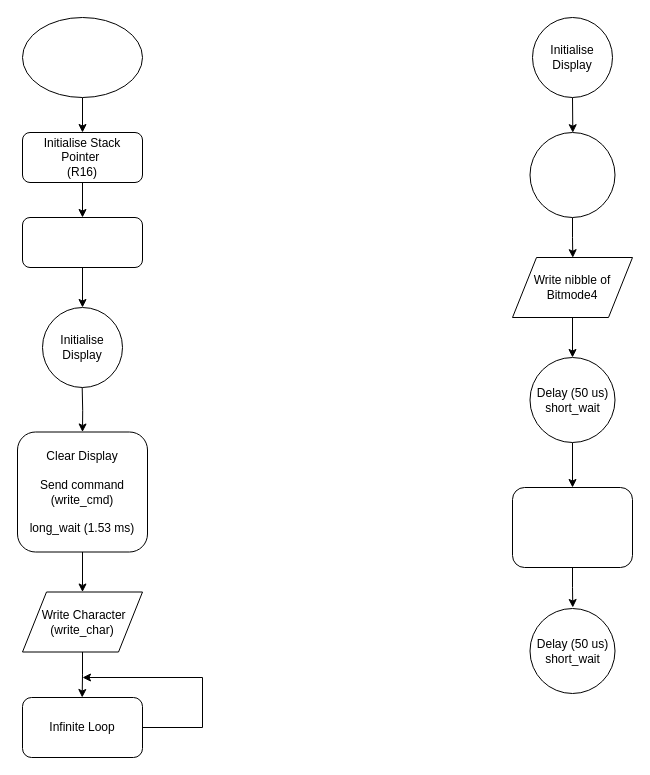
The diagram is 650 pixels wide and 775 high, and some of its shapes have lost their labels. The centre of each missing label's shape, as x and y in pixels:
Delay (20 ms) "Power up": [572,175]
Display cursor Send command (write_cmd): [572,527]
PORTE as output (LCD): [82,242]
Start: [82,57]
